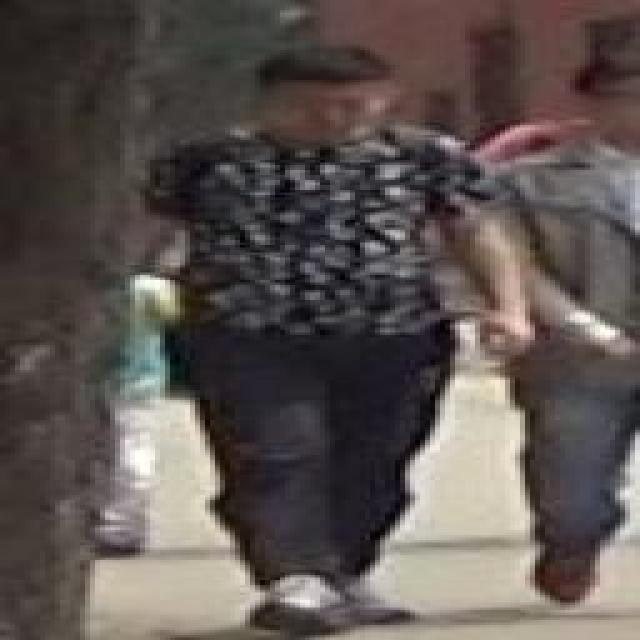adult: (141, 47, 510, 630), (458, 59, 640, 604)
